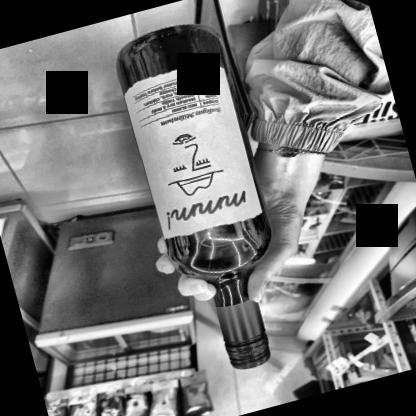umm: (118, 52, 262, 244)
